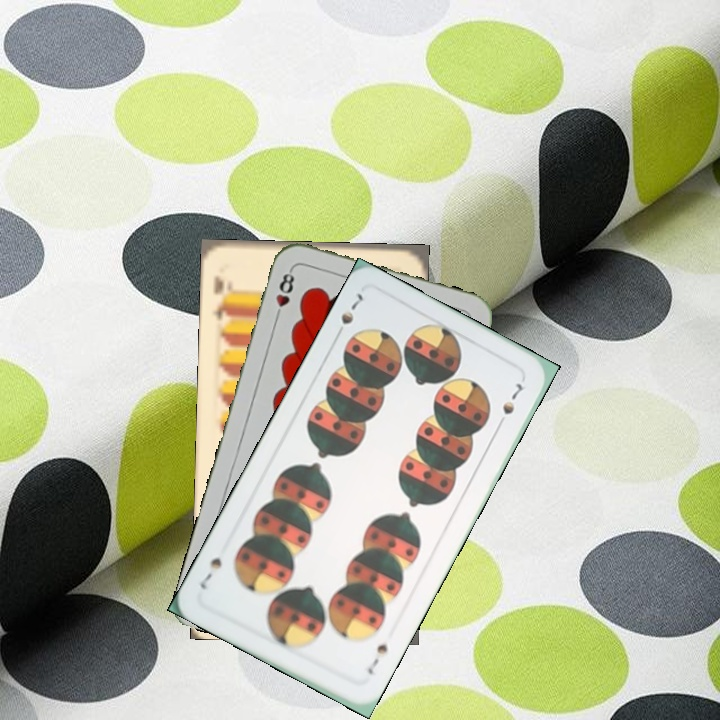E10: (208, 272, 234, 323)
H8: (271, 265, 297, 323)
S7: (331, 289, 366, 342), (363, 639, 391, 677)
